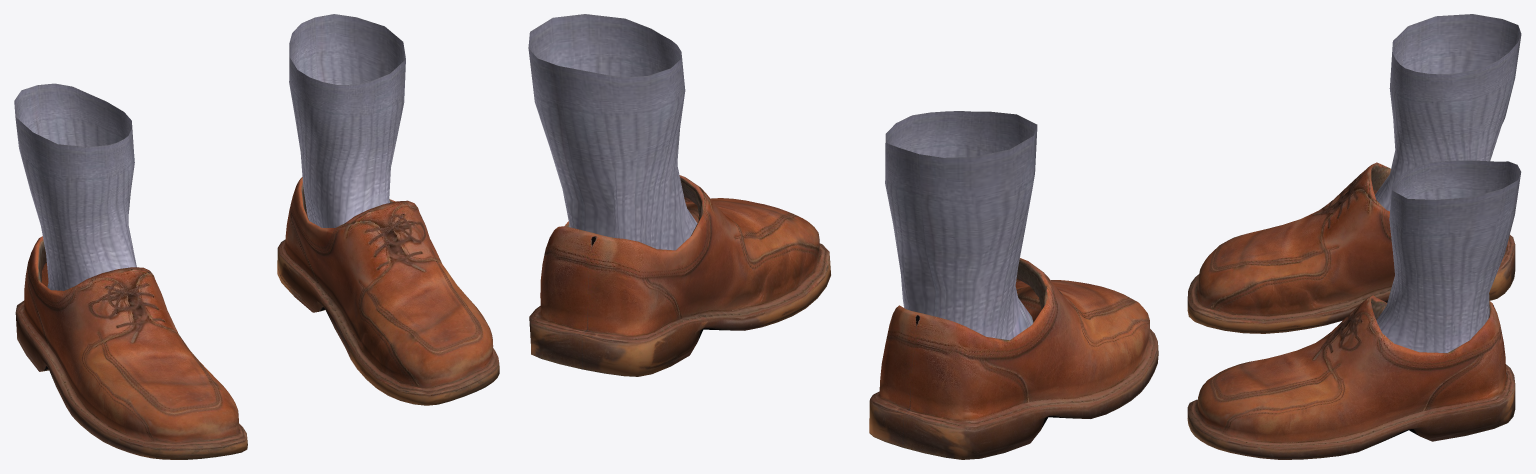
The model's file is shoes_brown_leather.gltf.
3 renders of one model, left to right at view 1: azimuth 30°, elevation 25°; view 2: azimuth 150°, elevation 25°; view 3: azimuth 270°, elevation 25°, orthographic. The views are drawn at different scales.
Parts seen in each view (by area): view 1: shoes_brown_leather; view 2: shoes_brown_leather; view 3: shoes_brown_leather.
Part boxes in pixels (left/top/right/bottom): shoes_brown_leather: left=14, top=14, right=499, bottom=459; shoes_brown_leather: left=528, top=14, right=1158, bottom=459; shoes_brown_leather: left=1187, top=14, right=1521, bottom=459.
Size of the model in its own units: 0.326 by 0.2109 by 0.238.
Materials: 1 (1 with a texture image).
